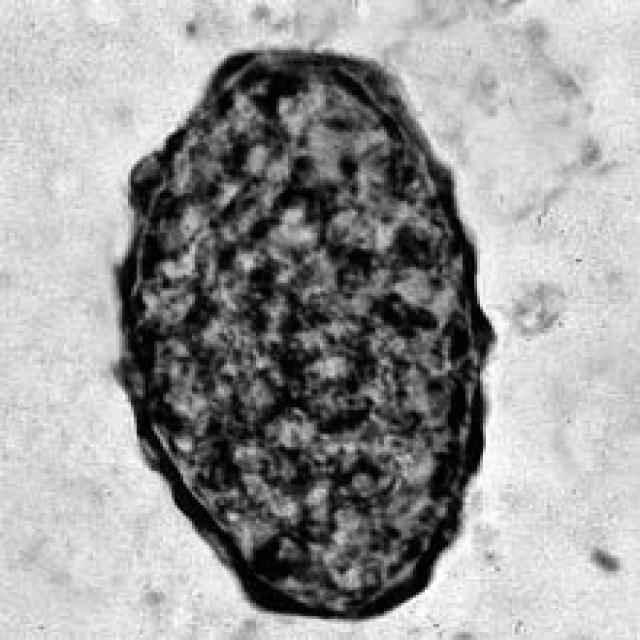Ancylostoma Spp: (100, 45, 496, 627)
